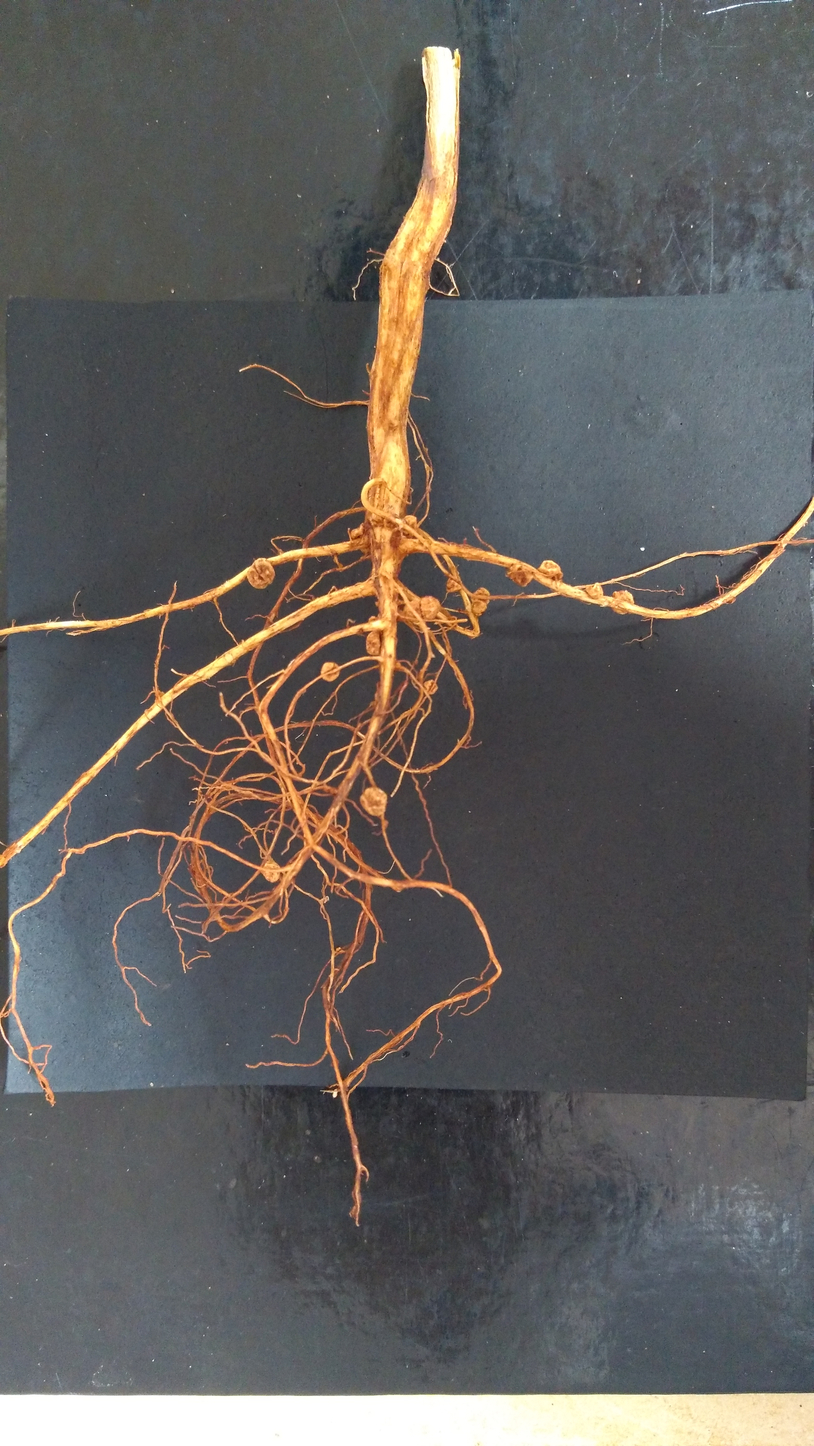nodule: (244, 557, 277, 592), (358, 784, 389, 817), (503, 563, 535, 588), (610, 588, 635, 617), (419, 594, 443, 621), (537, 558, 564, 581), (364, 628, 383, 658), (259, 859, 282, 883), (402, 596, 424, 621), (320, 661, 341, 683), (470, 585, 491, 605), (584, 581, 605, 601), (421, 678, 439, 698), (399, 512, 420, 528), (445, 576, 462, 595), (348, 522, 367, 539), (471, 599, 488, 617)
